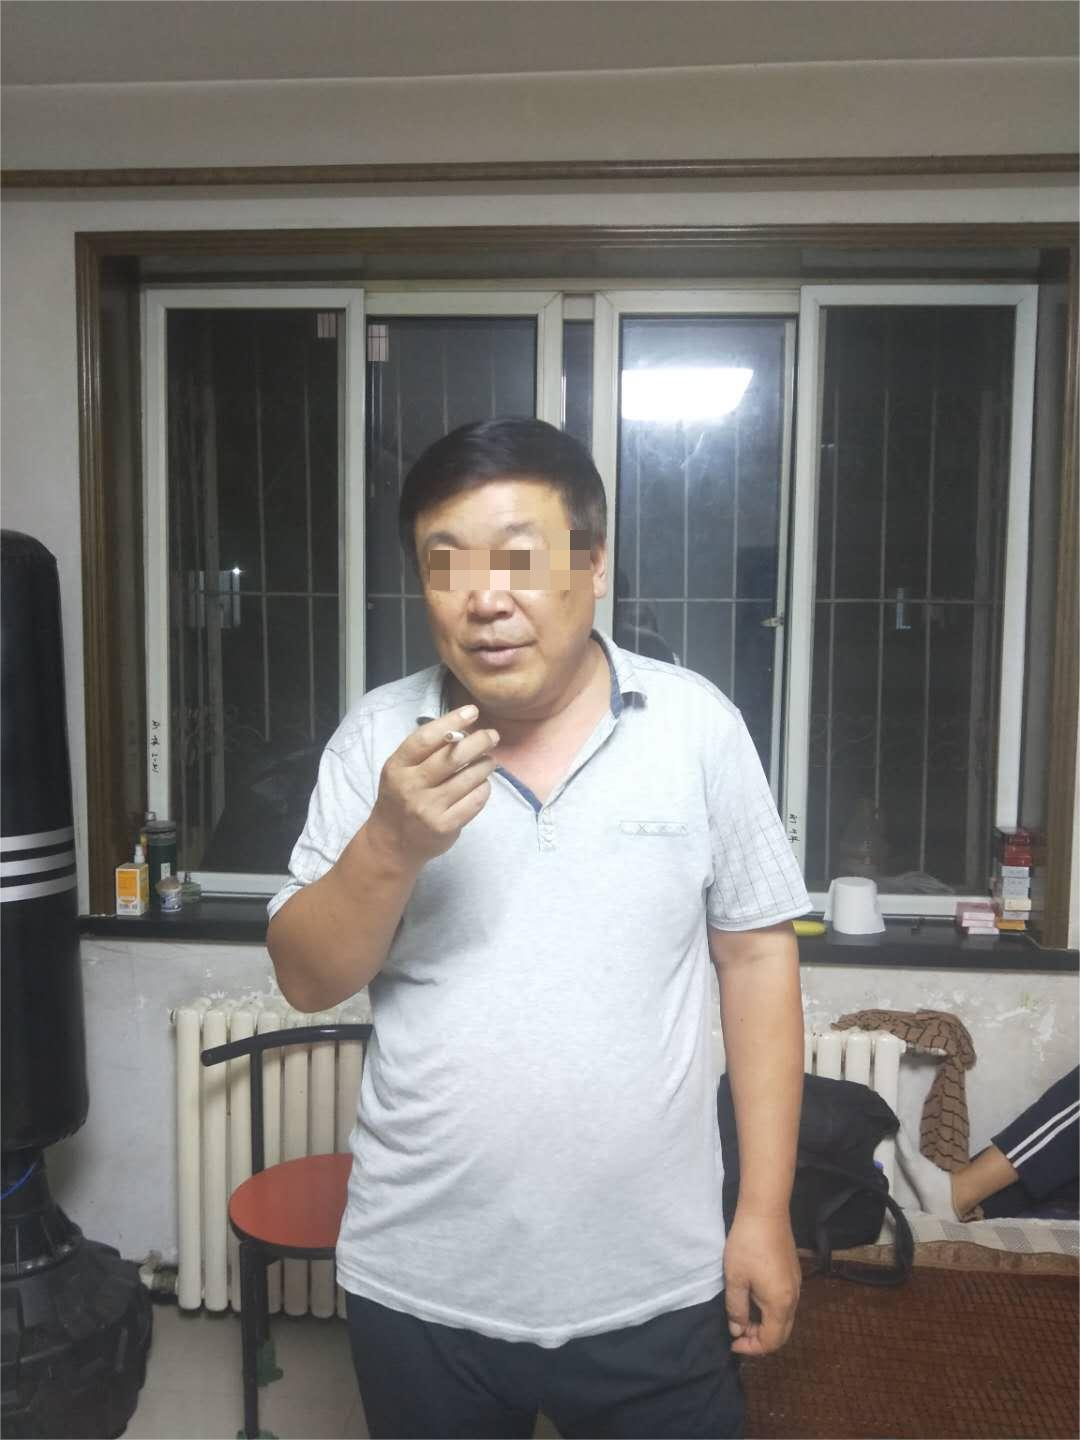smoke: (444, 725, 467, 751)
